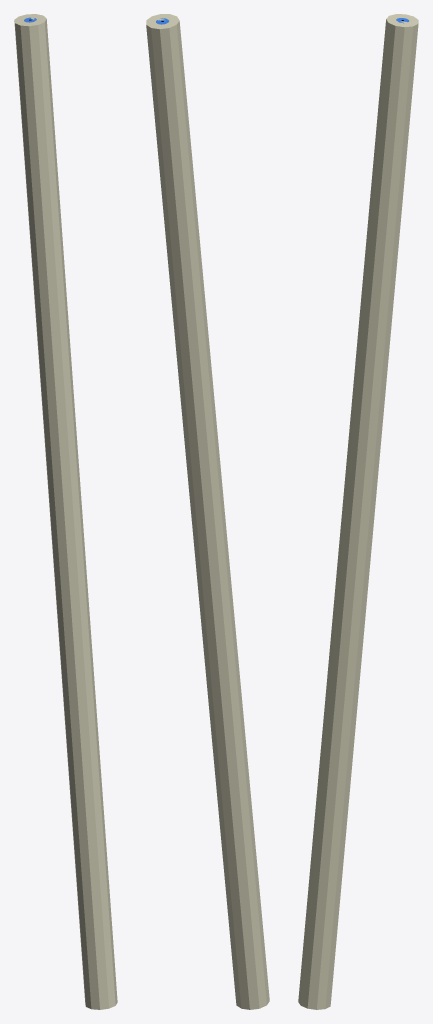
The model's file is tile_172.glb.
3 views of the same model, side by side, from view 1: azimuth 90°, elevation 25°; view 2: azimuth 150°, elevation 25°; view 3: azimuth 330°, elevation 25° (orthographic). The views are drawn at different scales.
Size of the model in its own units: 0.6979 by 8.05 by 0.7844.
